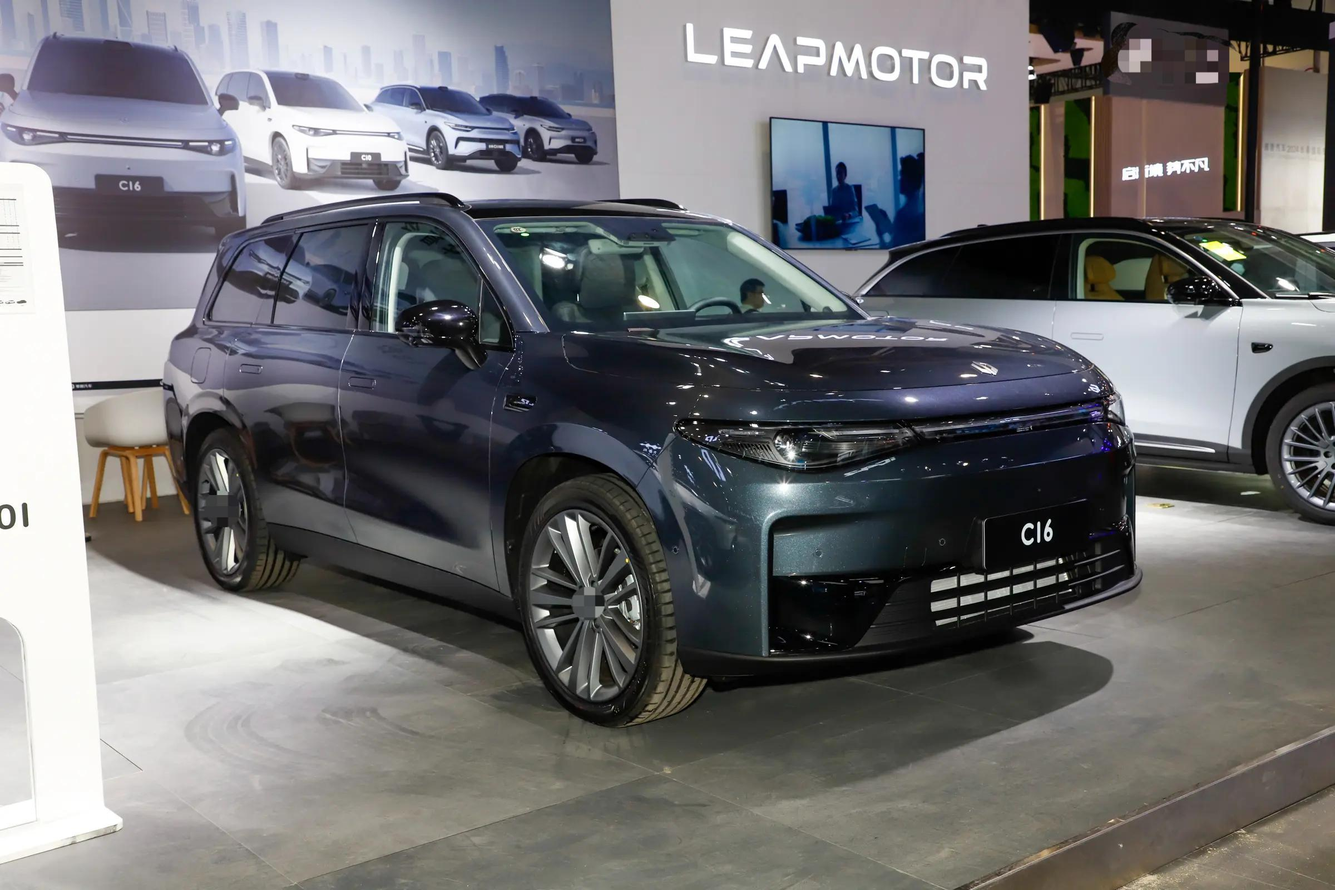LEAPMOTOR: (971, 360, 998, 375)
